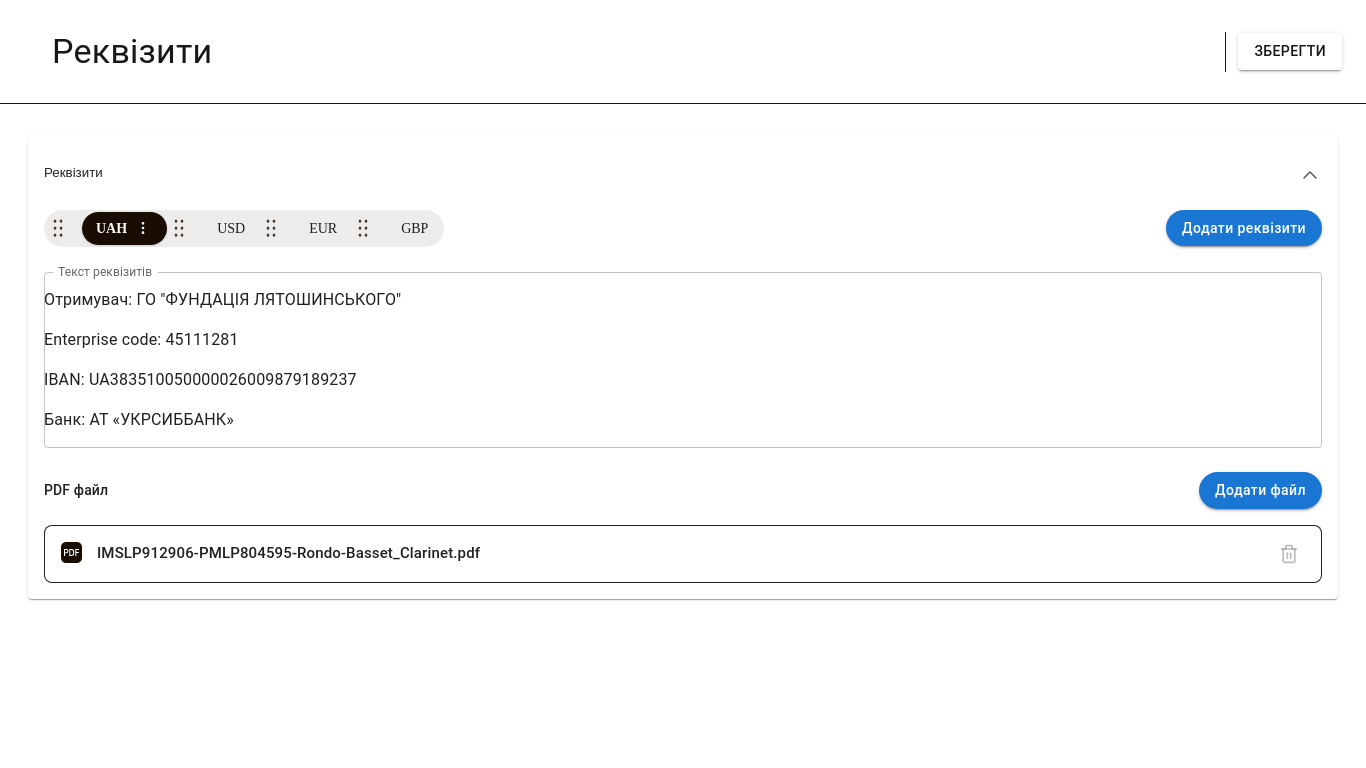
Scenario: PaymentDetailsPageContent › updates the form from the response and shows success feedback after saving
Click the button "Зберегти" at {"x": 1290, "y": 52}, box [1238,33,1342,70]
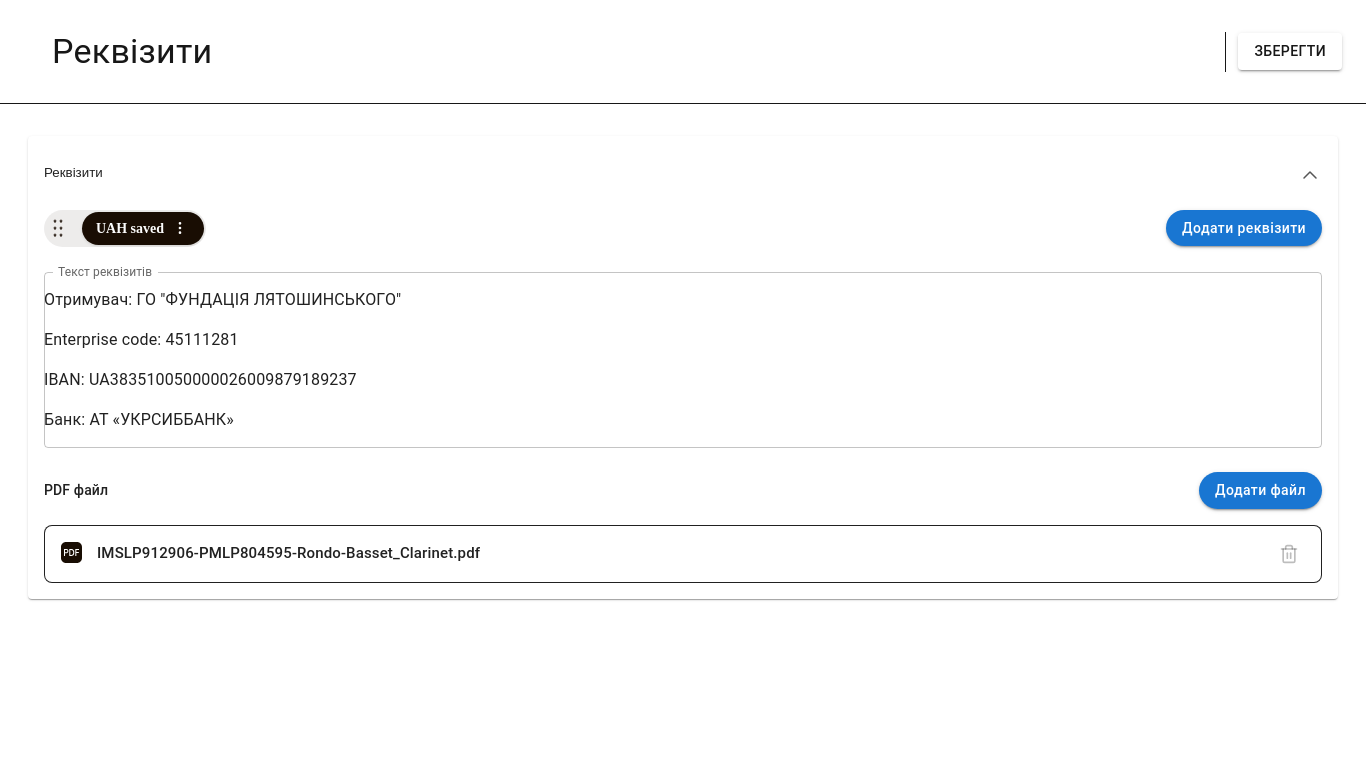
Expected: the button "UAH saved" is shown, [96,218,164,238]
Expected: the button "USD" is gone
